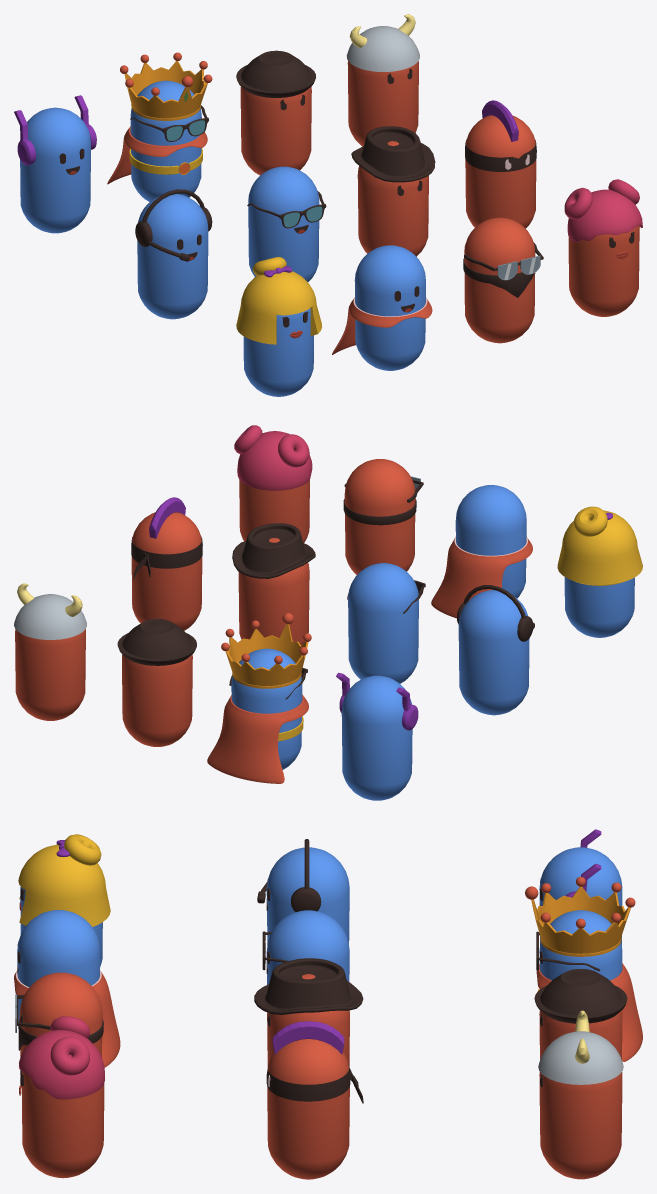
File: Character.fbx
3 views of the same model, one above another, from view 1: azimuth 30°, elevation 25°; view 2: azimuth 150°, elevation 25°; view 3: azimuth 270°, elevation 25° (orthographic). The views are drawn at different scales.
Visible parts, largest first — view 1: Sphere.006, Sphere.007, Sphere.014, Sphere.017, Sphere.008, Sphere.011, Sphere.020, Sphere.001, Sphere.009, Torus, Sphere.003, Sphere (+18 smaller); view 2: Sphere.008, Sphere.006, Sphere.007, Sphere.017, Sphere.011, Sphere.001, Sphere.003, Torus, Sphere.014, Sphere.016, Sphere.009, Torus.001 (+14 smaller); view 3: Sphere.011, Sphere.003, Sphere.020, Torus, Torus.001, Sphere.014, Circle.013, Sphere.007, Circle.001, Sphere.017, Sphere.008, Sphere.002 (+12 smaller).
Part boxes in pixels (x1,y1,x2,y2): Sphere.006: [20, 107, 90, 233]; Sphere.007: [137, 194, 208, 319]; Sphere.014: [354, 245, 425, 370]; Sphere.017: [464, 217, 535, 343]; Sphere.008: [248, 166, 319, 281]; Sphere.011: [465, 115, 536, 228]; Sphere.020: [568, 225, 639, 316]; Sphere.001: [240, 86, 311, 175]; Sphere.009: [357, 141, 428, 256]; Torus: [236, 257, 322, 344]; Sphere.003: [347, 61, 418, 146]; Sphere: [130, 80, 201, 201]; Sphere.008: [348, 563, 418, 683]; Sphere.006: [341, 675, 412, 800]; Sphere.007: [458, 590, 529, 715]; Sphere.017: [344, 459, 415, 574]; Sphere.011: [131, 512, 202, 630]; Sphere.001: [122, 654, 192, 746]; Sphere.003: [15, 629, 85, 720]; Torus: [557, 506, 642, 585]; Sphere.014: [455, 485, 526, 598]; Sphere.016: [207, 694, 308, 783]; Sphere.009: [238, 538, 309, 645]; Torus.001: [234, 425, 312, 490]; Sphere.011: [267, 1039, 349, 1179]; Sphere.003: [539, 1072, 622, 1179]; Sphere.020: [21, 1071, 104, 1178]; Torus: [18, 834, 110, 926]; Torus.001: [19, 1016, 104, 1099]; Sphere.014: [17, 910, 100, 1021]; Circle.013: [254, 958, 363, 1014]; Sphere.007: [266, 847, 349, 943]; Circle.001: [531, 886, 630, 956]; Sphere.017: [19, 972, 102, 1088]; Sphere.008: [266, 910, 349, 984]; Sphere.002: [534, 969, 627, 1023].
Size of the model in its own units: 96.96 by 33.06 by 114.
Materials: 1 (1 with a texture image).
